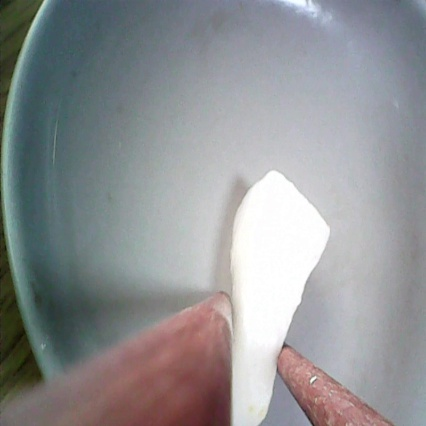white_chinese-yam: (207, 165, 333, 426)
